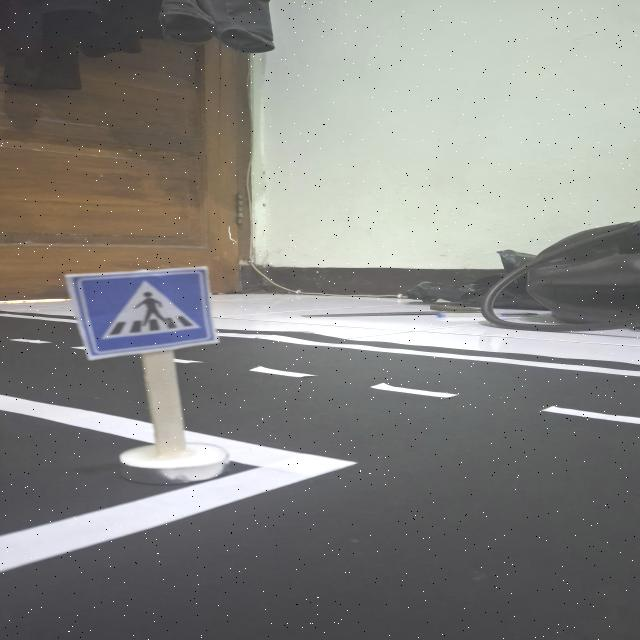Rambu Penyebrangan: (68, 270, 214, 356)
